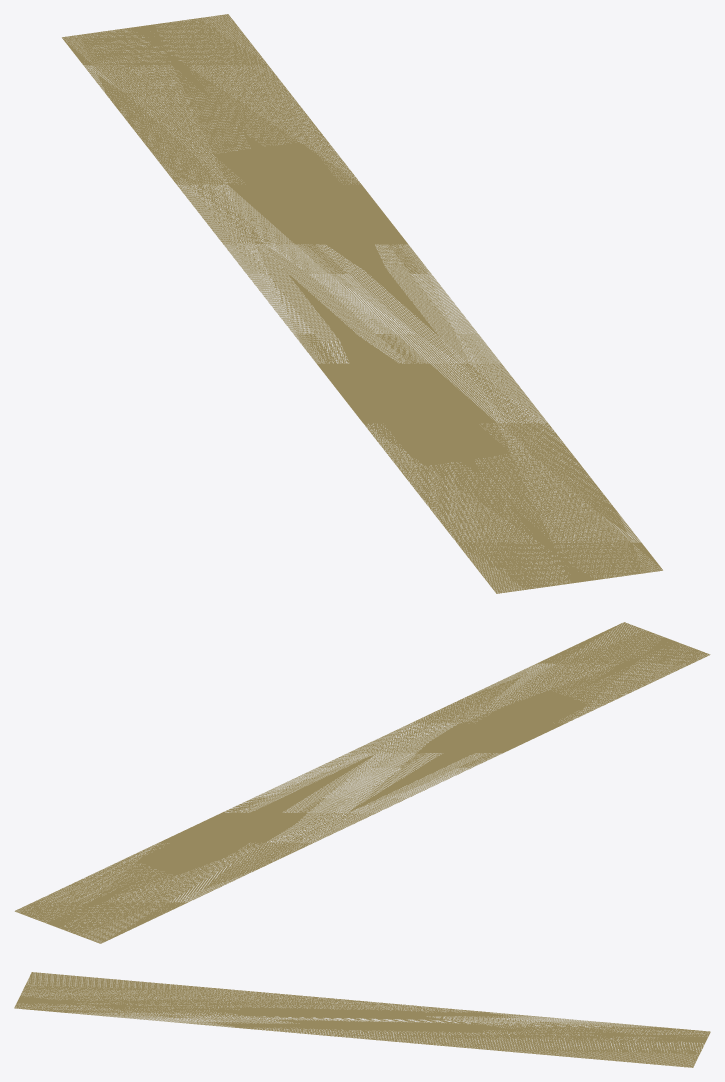
Rendered from 大本钟208.dae.
3 views of the same model, one above another, from view 1: azimuth 30°, elevation 25°; view 2: azimuth 150°, elevation 25°; view 3: azimuth 270°, elevation 25° (orthographic). The views are drawn at different scales.
Parts seen in each view (by area): view 1: SketchUp; view 2: SketchUp; view 3: SketchUp.
Part boxes in pixels (x1,y1,x2,y2): SketchUp: (62, 14, 662, 593); SketchUp: (14, 622, 710, 943); SketchUp: (14, 972, 710, 1067).
Size of the model in its own units: 5.15 by 15.83 by 0.
